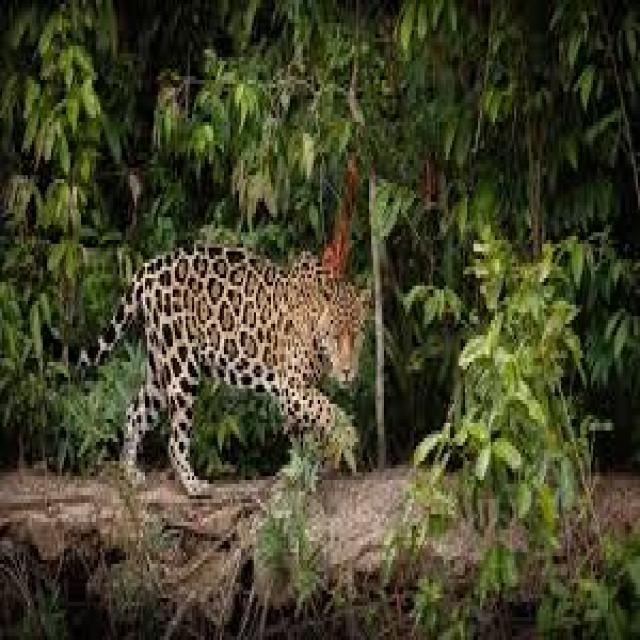Jaguar: (43, 240, 373, 499)
